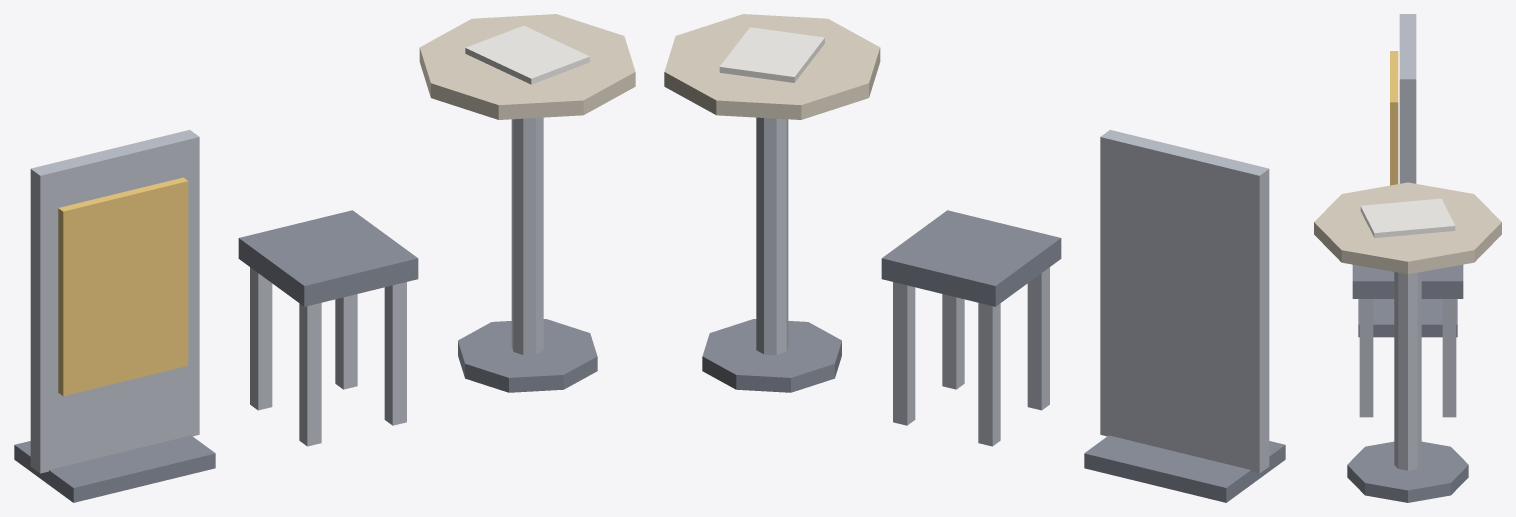
The model's file is station_transport_3.glb.
The picture shows the model from 3 angles, left to right: view 1: azimuth 30°, elevation 25°; view 2: azimuth 150°, elevation 25°; view 3: azimuth 270°, elevation 25°; orthographic projection. The views are drawn at different scales.
Parts seen in each view (by area): view 1: aufsteller_tafel, aufsteller_text, stehtisch_platte, hocker_sitz, stehtisch_saeule, stehtisch_fuss, aufsteller_fuss, zettel, hocker_bein, hocker_bein.002, hocker_bein.001, hocker_bein.003; view 2: aufsteller_tafel, stehtisch_platte, hocker_sitz, stehtisch_saeule, stehtisch_fuss, aufsteller_fuss, zettel, hocker_bein.001, hocker_bein.003, hocker_bein, hocker_bein.002; view 3: stehtisch_platte, stehtisch_saeule, stehtisch_fuss, aufsteller_tafel, zettel, hocker_sitz, aufsteller_fuss, hocker_bein.002, hocker_bein.003, aufsteller_text.
Boxes of the visible parts, box(x1,y1,x2,y2) form: aufsteller_tafel: box(30, 130, 199, 473); aufsteller_text: box(58, 177, 188, 396); stehtisch_platte: box(419, 14, 635, 119); hocker_sitz: box(238, 210, 418, 306); stehtisch_saeule: box(511, 117, 543, 354); stehtisch_fuss: box(458, 319, 597, 392); aufsteller_fuss: box(14, 435, 215, 502); zettel: box(465, 25, 589, 84); hocker_bein: box(299, 303, 321, 446); hocker_bein.002: box(384, 282, 406, 425); hocker_bein.001: box(250, 267, 272, 410); hocker_bein.003: box(335, 294, 357, 389); aufsteller_tafel: box(1100, 130, 1269, 473); stehtisch_platte: box(664, 14, 880, 119); hocker_sitz: box(881, 210, 1061, 306); stehtisch_saeule: box(756, 117, 788, 354); stehtisch_fuss: box(702, 319, 841, 392); aufsteller_fuss: box(1084, 435, 1285, 502); zettel: box(719, 27, 824, 82); hocker_bein.001: box(978, 303, 1000, 446); hocker_bein.003: box(893, 282, 915, 425); hocker_bein: box(1027, 267, 1049, 410); hocker_bein.002: box(942, 294, 964, 389); stehtisch_platte: box(1314, 182, 1501, 274); stehtisch_saeule: box(1394, 272, 1421, 470); stehtisch_fuss: box(1347, 441, 1468, 502); aufsteller_tafel: box(1399, 14, 1416, 183); zettel: box(1360, 198, 1455, 237); hocker_sitz: box(1352, 264, 1463, 298); aufsteller_fuss: box(1358, 299, 1457, 337); hocker_bein.002: box(1359, 299, 1373, 417); hocker_bein.003: box(1442, 299, 1456, 417); aufsteller_text: box(1390, 51, 1398, 185).
Bounding box in the file's own units: 2.07 × 1.05 × 0.68.
